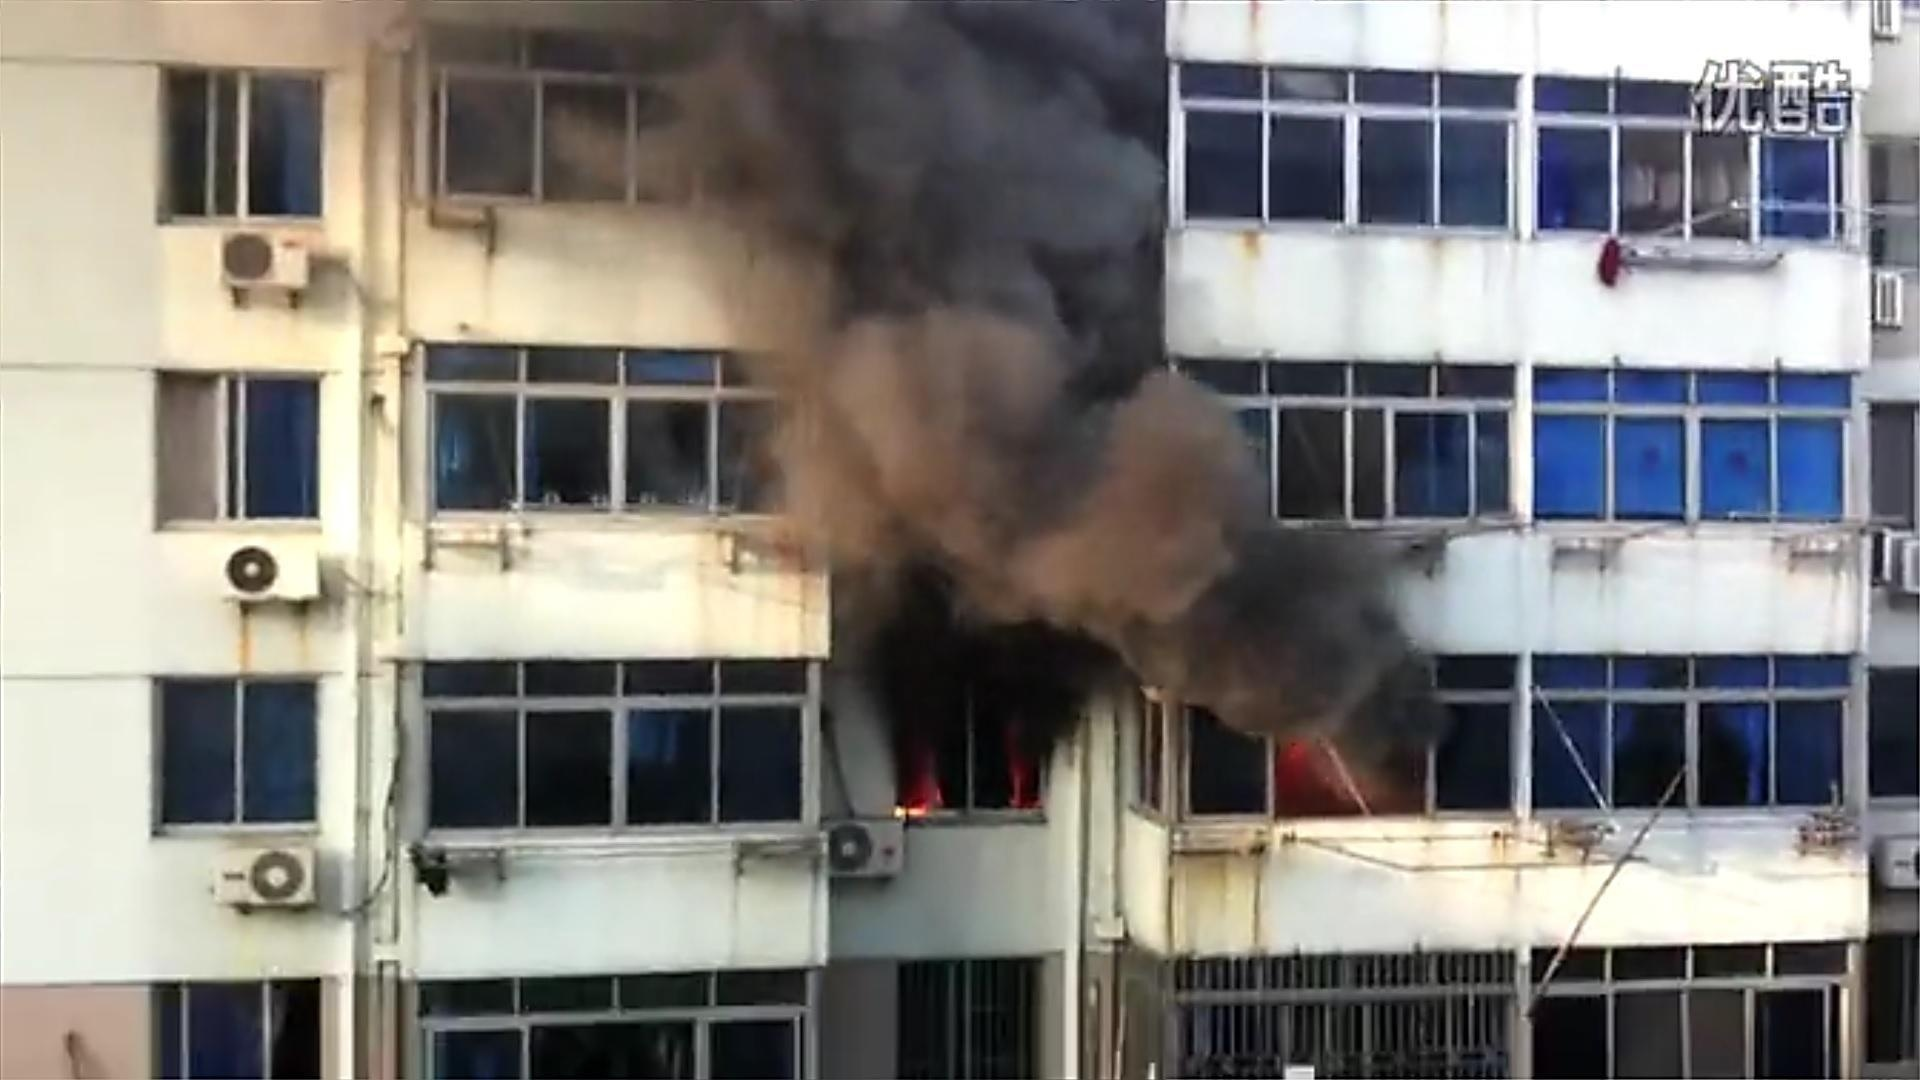fire: (894, 766, 948, 822)
